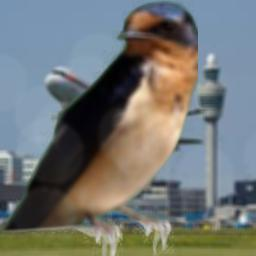Swallow: (1, 0, 198, 256)
